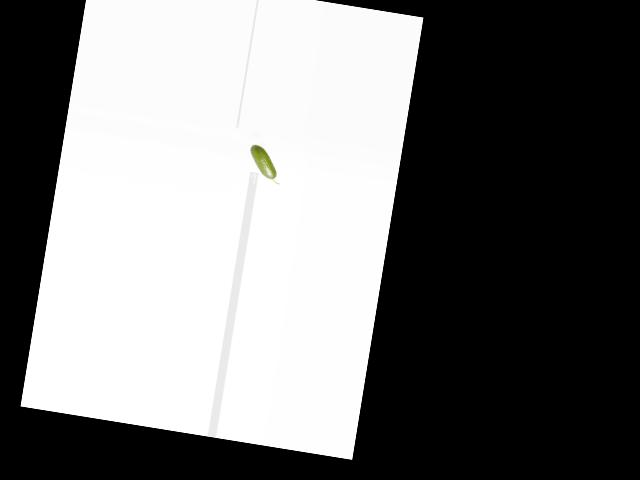cucumber: (244, 144, 284, 185)
